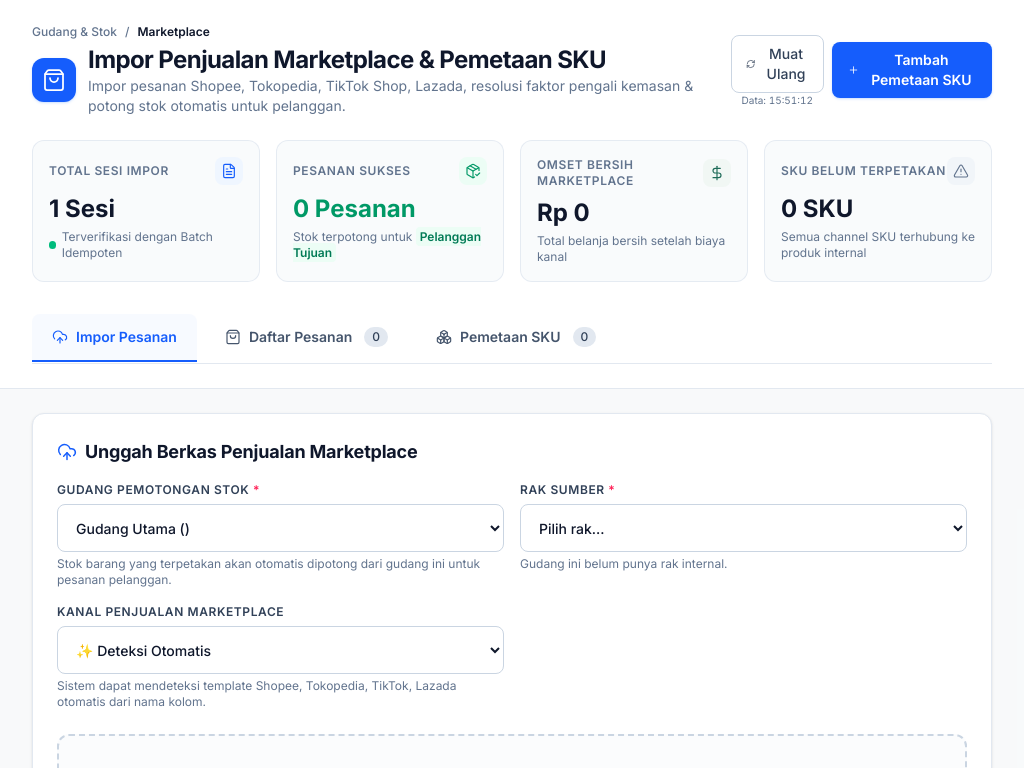
Test: Marketplace Batch Approval UI › hides approval buttons and shows waiting notice for warehouse staff
The image size is (1024, 768).
# Switch to tab 'orders' (Daftar Pesanan)
What coordinates should you click on to do the following:
click the button "Daftar Pesanan 0"
I would click on:
 (306, 338)
Its box is [205, 314, 408, 362].
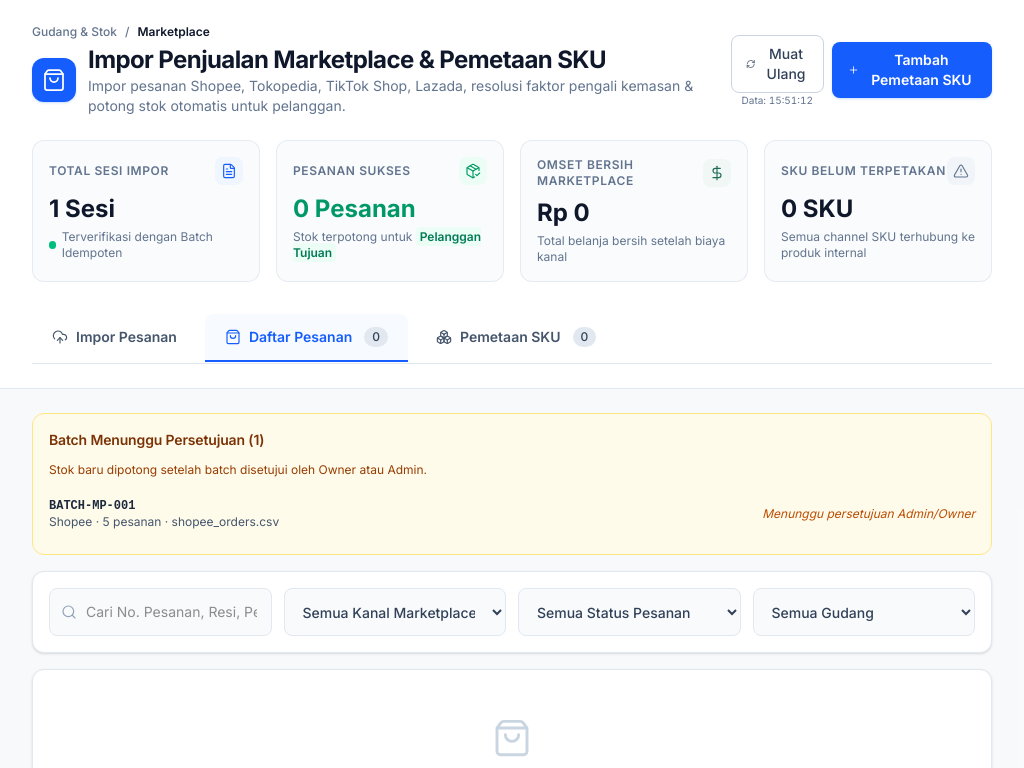
Expected: the text "BATCH-MP-001" is shown, [49, 499, 135, 513]
Expected: the text "Menunggu persetujuan Admin/Owner" is shown, [762, 506, 975, 522]
